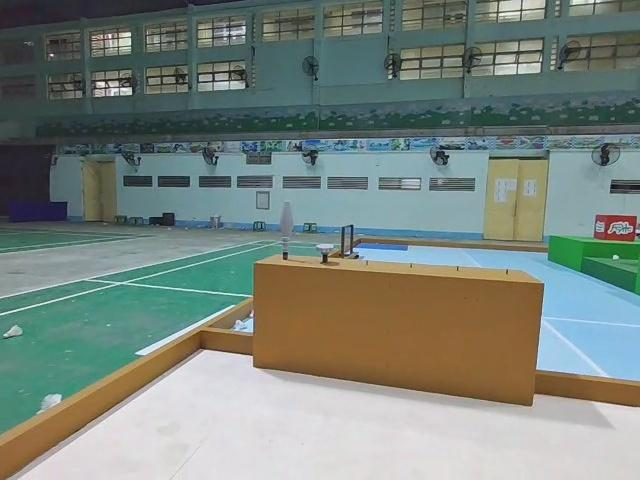Hand: (315, 243, 335, 264)
Sph: (278, 201, 295, 261)
